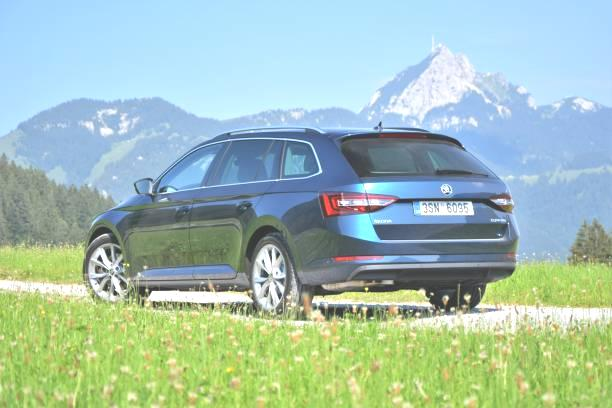skoda: (437, 179, 458, 199)
